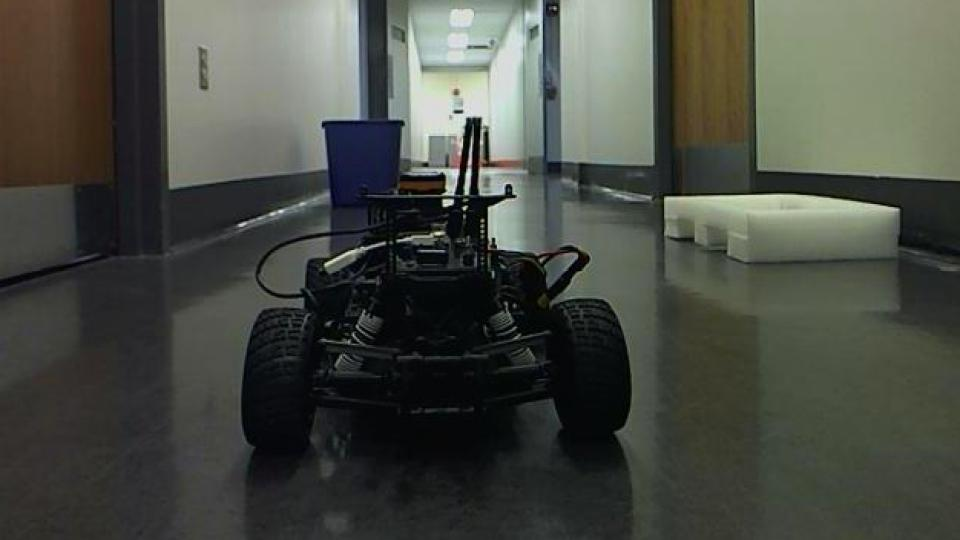car: (236, 115, 635, 457)
